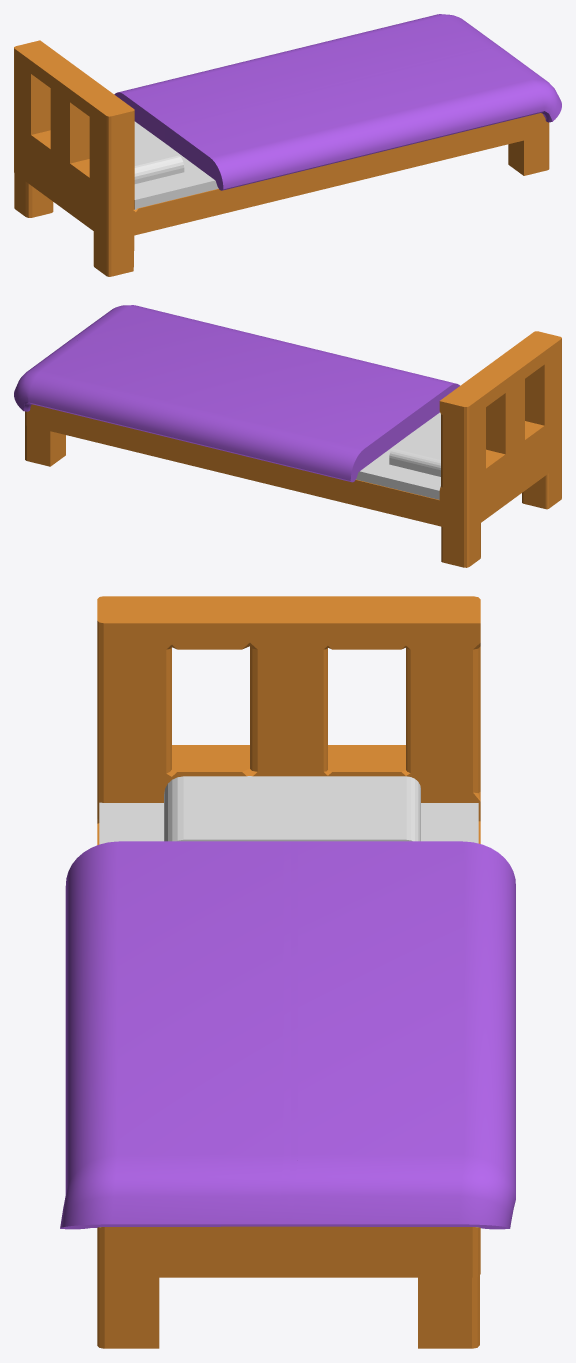
Rendered from Bed.fbx.
3 views of the same model, one above another, from view 1: azimuth 30°, elevation 25°; view 2: azimuth 150°, elevation 25°; view 3: azimuth 270°, elevation 25° (orthographic). The views are drawn at different scales.
Visible parts, largest first — view 1: Cube.002, Cube.001, Cube.003, Cube.004; view 2: Cube.002, Cube.001, Cube.003, Cube.004; view 3: Cube.002, Cube.001, Cube.004, Cube.003.
Boxes of the visible parts, x1,y1,x2,y2 form: Cube.002: [114, 14, 561, 190]; Cube.001: [14, 40, 549, 276]; Cube.003: [134, 121, 218, 209]; Cube.004: [134, 123, 184, 183]; Cube.002: [14, 305, 459, 482]; Cube.001: [25, 331, 561, 567]; Cube.003: [356, 412, 440, 499]; Cube.004: [389, 413, 440, 476]; Cube.002: [60, 841, 515, 1229]; Cube.001: [97, 596, 480, 1348]; Cube.004: [164, 776, 420, 841]; Cube.003: [99, 802, 478, 1227].
Size of the model in its own units: 1020 by 345 by 444.
